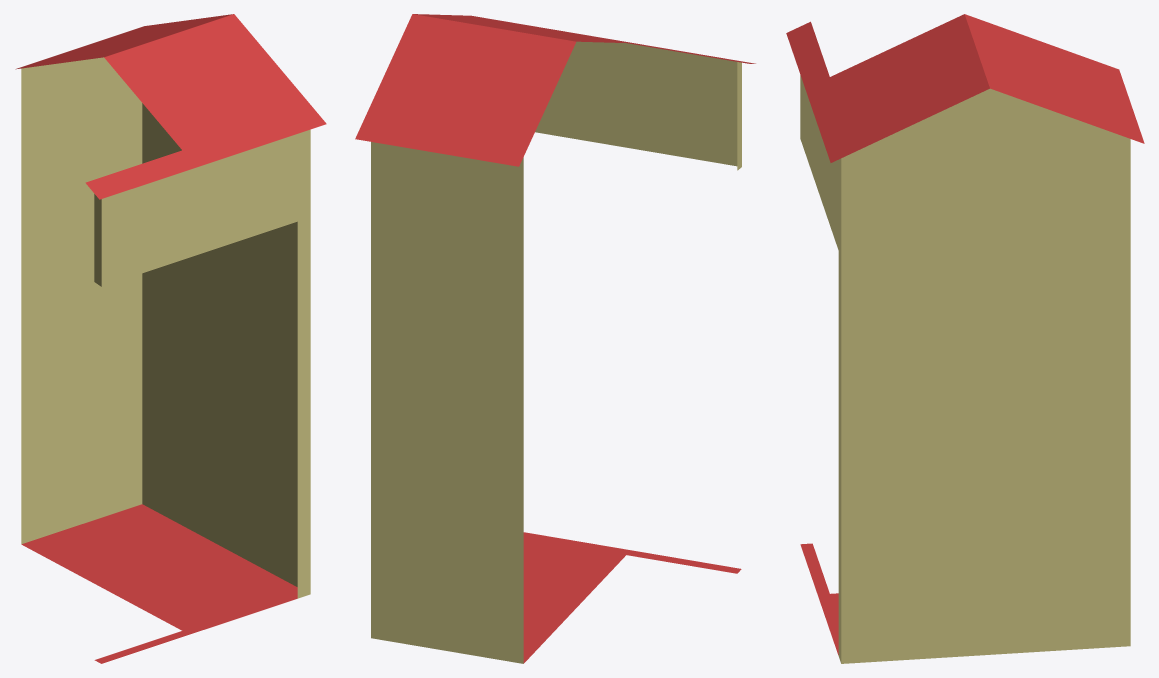
3 renders of one model, left to right at view 1: azimuth 30°, elevation 25°; view 2: azimuth 150°, elevation 25°; view 3: azimuth 270°, elevation 25°, orthographic. The views are drawn at different scales.
Size of the model in its own units: 6.25 by 7.19 by 12.64.
